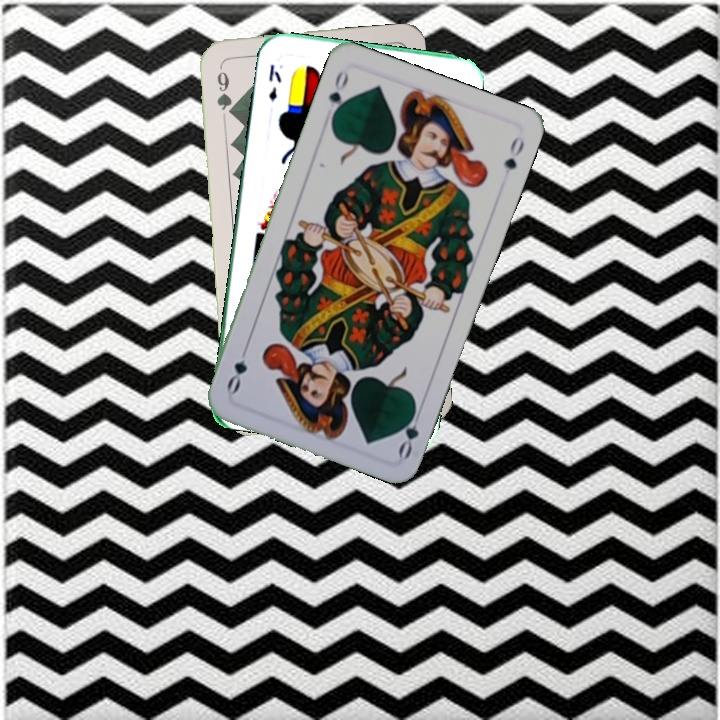EK: (264, 60, 284, 103)
G9: (213, 62, 236, 119)
GO: (394, 401, 425, 461), (324, 67, 352, 124)
